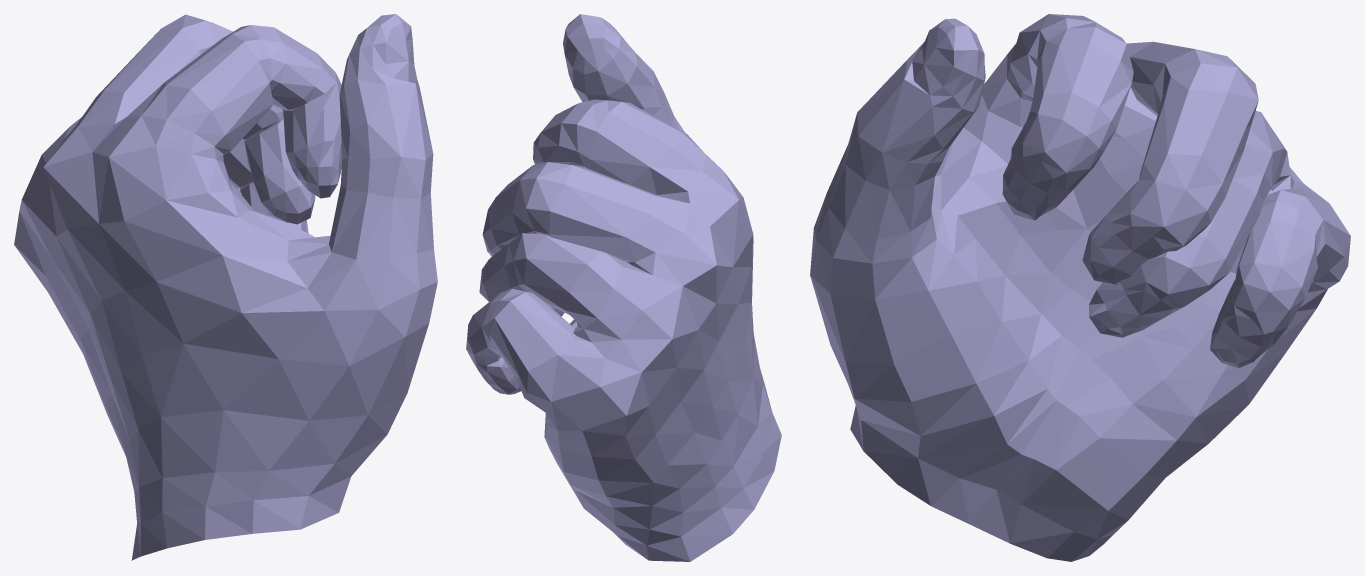
Rendered from frame_0066_source_000066_hand.glb.
The picture shows the model from 3 angles, left to right: view 1: azimuth 30°, elevation 25°; view 2: azimuth 150°, elevation 25°; view 3: azimuth 270°, elevation 25°; orthographic projection. The views are drawn at different scales.
Parts seen in each view (by area): view 1: world; view 2: world; view 3: world.
Boxes of the visible parts, left/top/right/bottom form: world: left=14, top=14, right=437, bottom=560; world: left=466, top=14, right=781, bottom=561; world: left=810, top=14, right=1350, bottom=561.
Bounding box in the file's own units: 0.0631 × 0.1225 × 0.1008.
